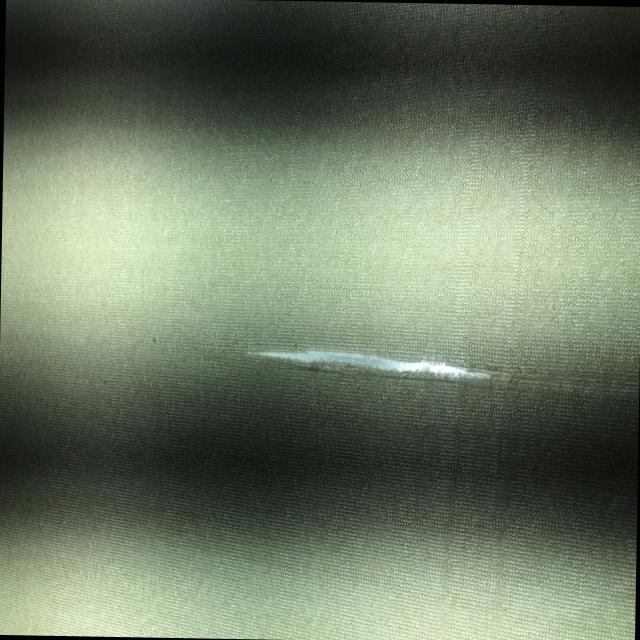Warp_Weft: (253, 346, 492, 383)
